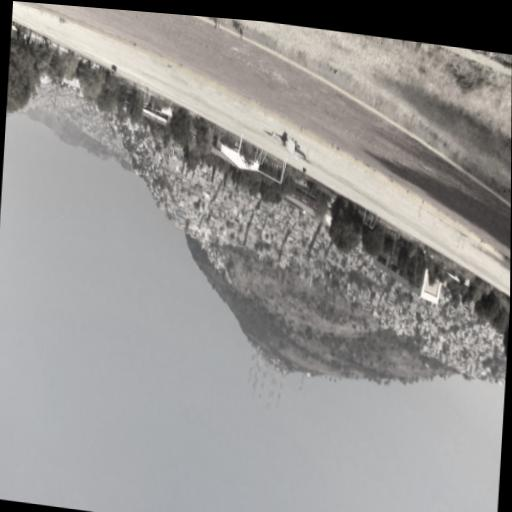drones: (260, 119, 314, 167)
